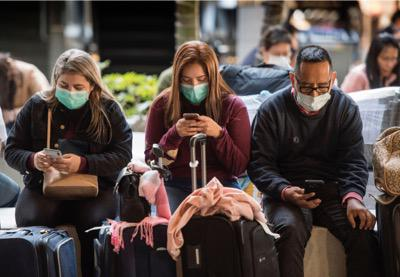with_mask: (293, 80, 331, 114), (54, 80, 89, 110), (179, 73, 209, 106), (266, 49, 292, 67)
without_mask: (377, 53, 397, 77)
